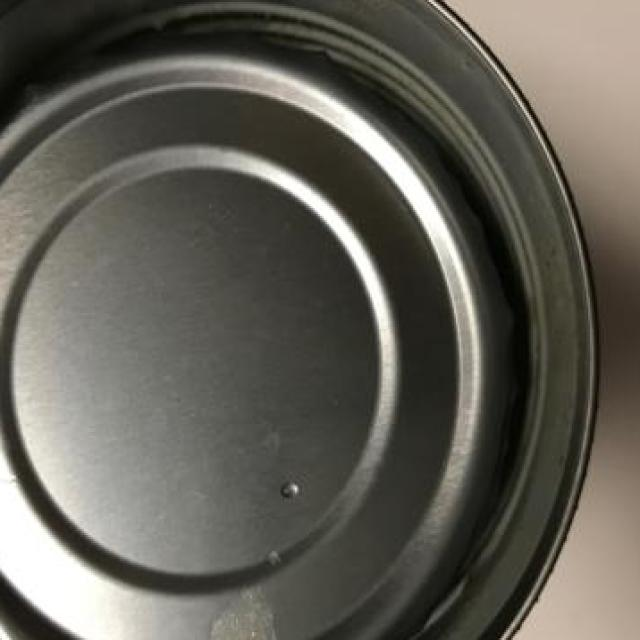organic: (7, 0, 603, 638)
